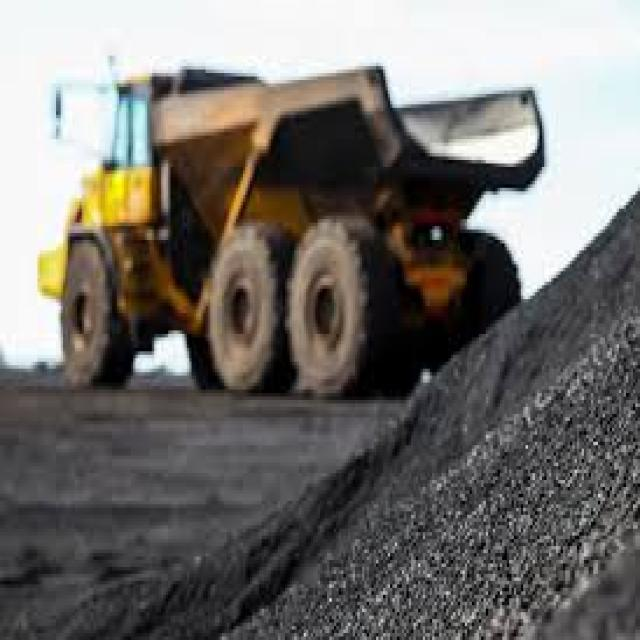dump_truck: (23, 35, 556, 421)
